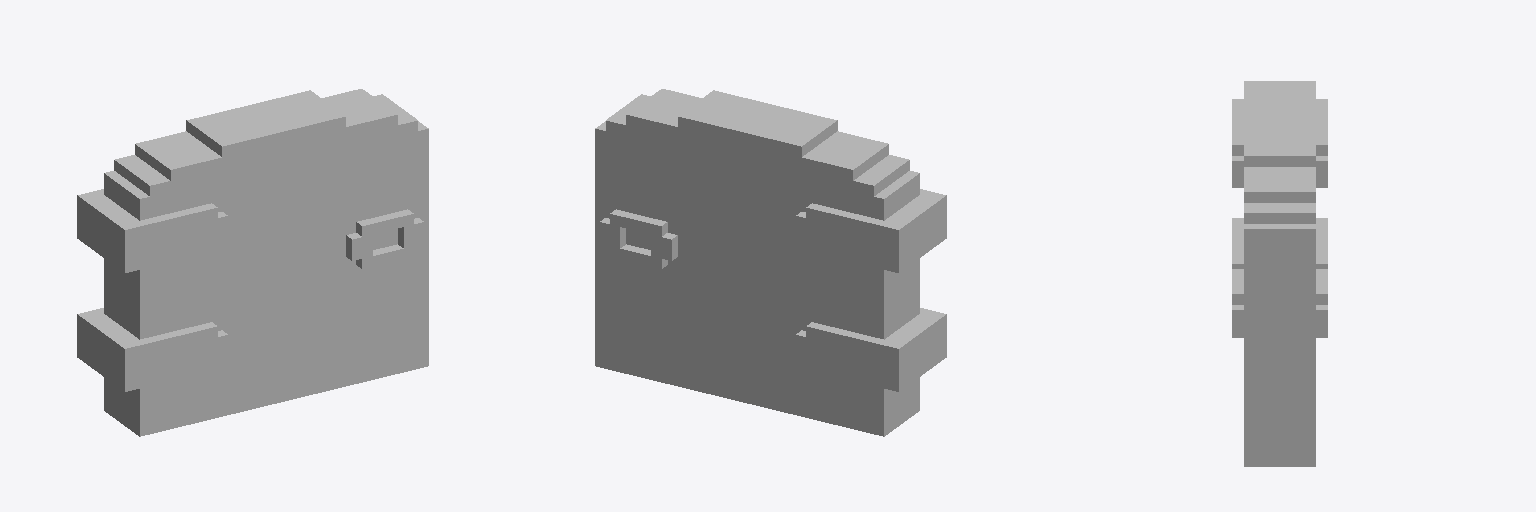
The model's file is doorPivot.obj.
3 views of the same model, side by side, from view 1: azimuth 30°, elevation 25°; view 2: azimuth 150°, elevation 25°; view 3: azimuth 270°, elevation 25° (orthographic).
Parts seen in each view (by area): view 1: doorpivot; view 2: doorpivot; view 3: doorpivot.
Part boxes in pixels (bbox=[...]): doorpivot: bbox=[77, 89, 428, 436]; doorpivot: bbox=[595, 89, 946, 436]; doorpivot: bbox=[1232, 81, 1327, 466].
Size of the model in its own units: 3 by 2.5 by 0.8.